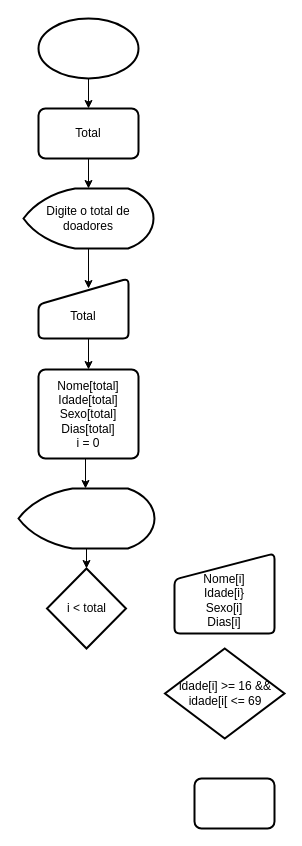
The diagram is 302 pixels wide and 846 high, and some of its shapes have lost their labels. The centre of each missing label's shape, as x and y in pixels:
i++: (x=234, y=803)
Início: (x=88, y=48)
nome, idade, sexo 'M' ou 'F', dias sem doar: (x=86, y=518)
